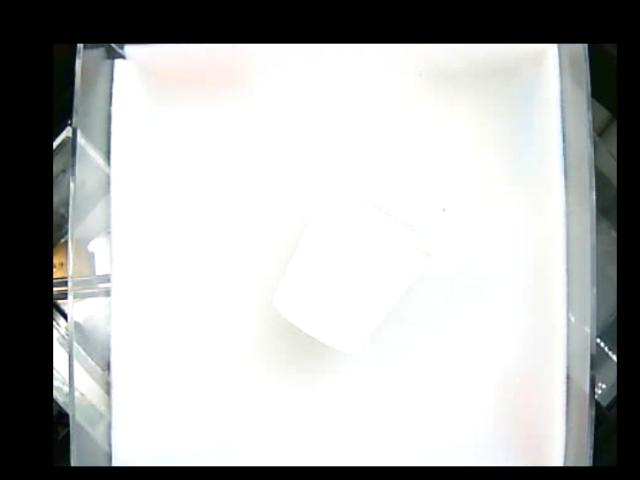Cup: (273, 182, 433, 352)
